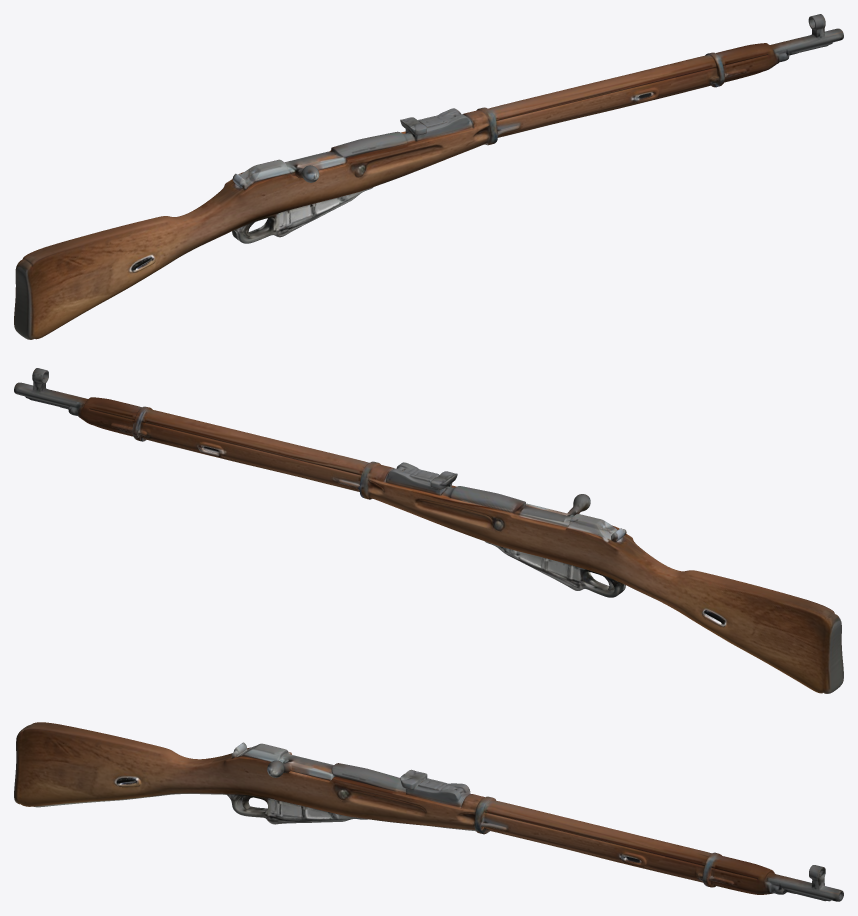
Rendered from wpn_mosin.glb.
3 views of the same model, one above another, from view 1: azimuth 30°, elevation 25°; view 2: azimuth 150°, elevation 25°; view 3: azimuth 330°, elevation 25° (orthographic).
Visible parts, largest first — view 1: node_0; view 2: node_0; view 3: node_0.
Part boxes in pixels (<box>): node_0: <box>14,14,843,339</box>; node_0: <box>14,368,843,693</box>; node_0: <box>14,722,843,901</box>.
Bounding box in the file's own units: 1.19 × 0.1805 × 0.0813.
Materials: 1 (1 with a texture image).
